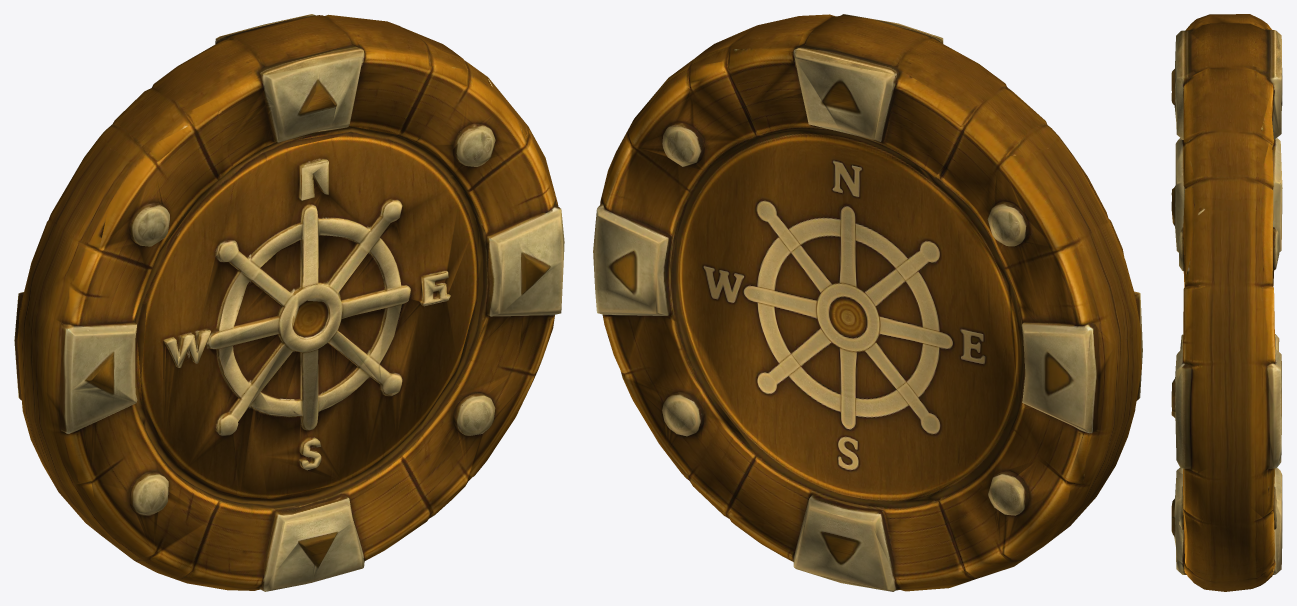
Rendered from chip_2_lp.glb.
The picture shows the model from 3 angles, left to right: view 1: azimuth 30°, elevation 25°; view 2: azimuth 150°, elevation 25°; view 3: azimuth 270°, elevation 25°; orthographic projection. The views are drawn at different scales.
Size of the model in its own units: 1.89 by 1.89 by 0.3626.
1 material, 1 textured.
